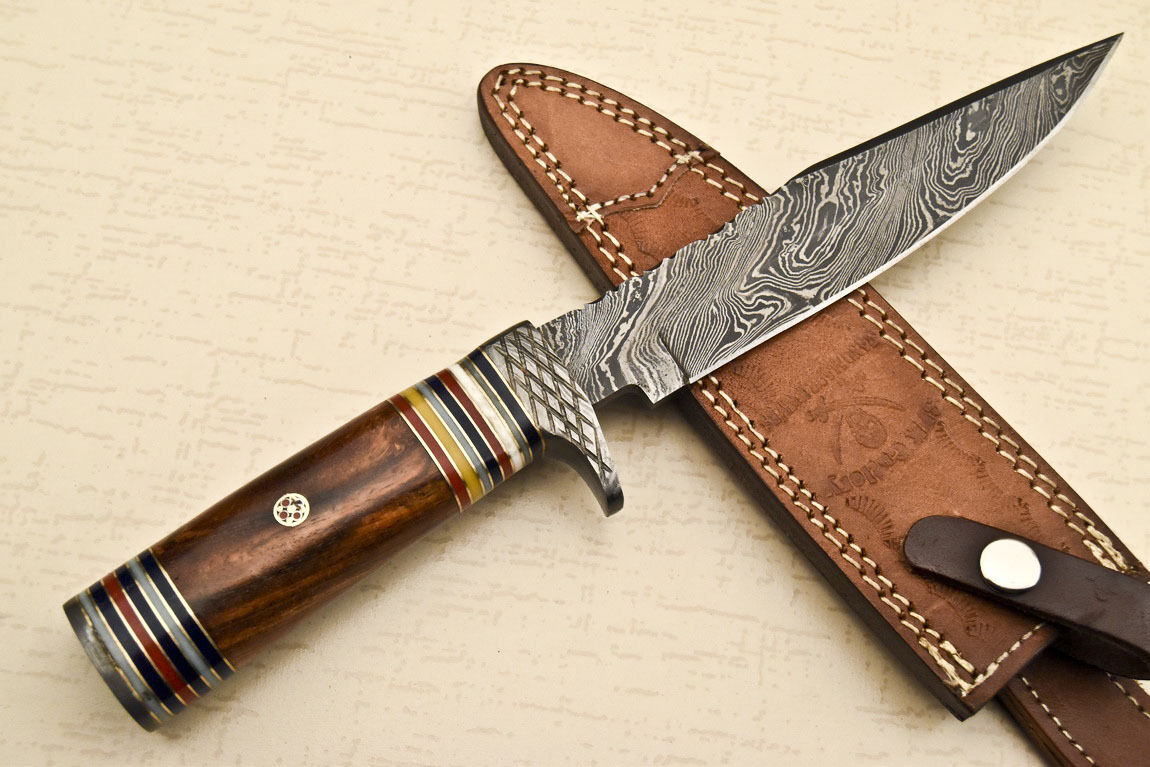knief: (83, 21, 1124, 755)
